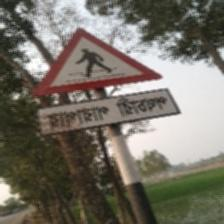Pedestrian-crossing: (30, 27, 179, 137)
